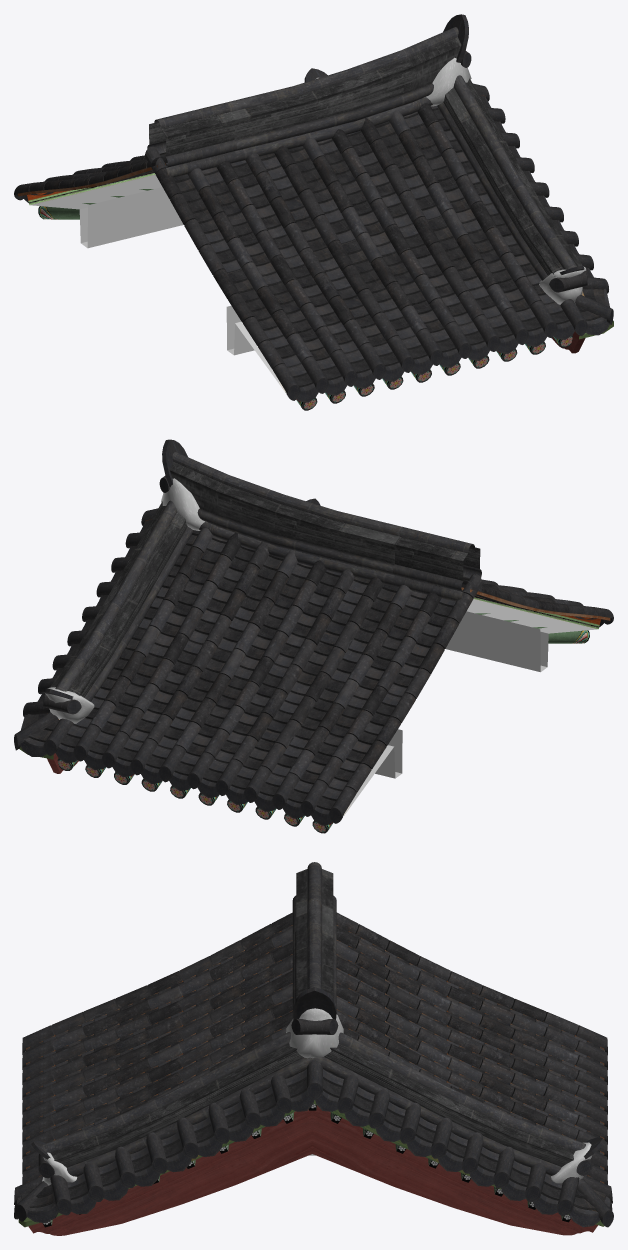
File: SM_Giwa01E_a1.fbx
3 views of the same model, one above another, from view 1: azimuth 30°, elevation 25°; view 2: azimuth 150°, elevation 25°; view 3: azimuth 270°, elevation 25° (orthographic). The views are drawn at different scales.
Visible parts, largest first — view 1: SM_Giwa01E_a1; view 2: SM_Giwa01E_a1; view 3: SM_Giwa01E_a1.
Boxes of the visible parts, box(x1,y1,x2,y2) form: SM_Giwa01E_a1: box(14, 14, 613, 410); SM_Giwa01E_a1: box(14, 439, 613, 833); SM_Giwa01E_a1: box(14, 862, 613, 1235).
Size of the model in its own units: 363 by 522 by 248.
